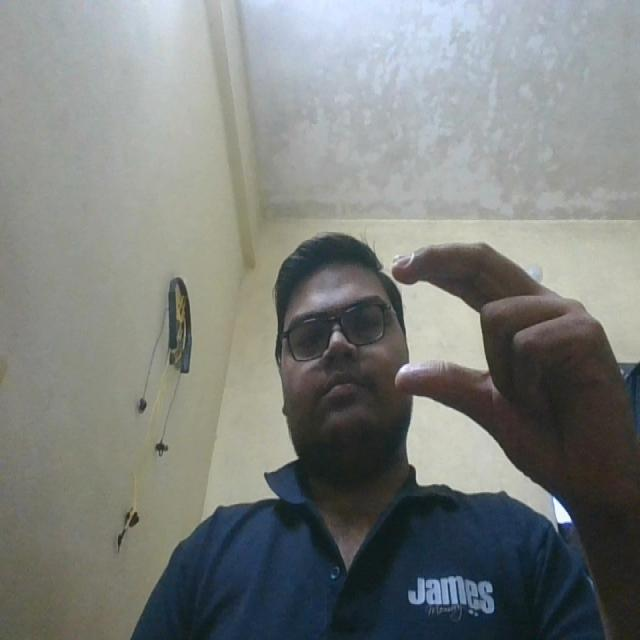No: (370, 210, 616, 514)
